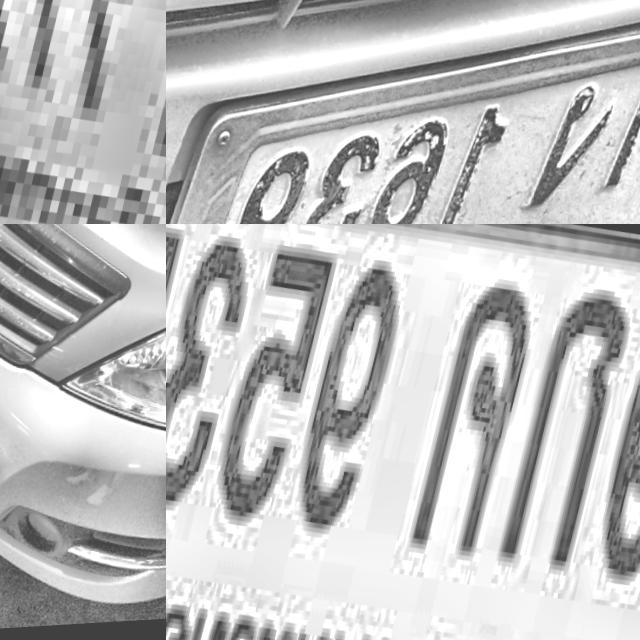license-plate: (166, 224, 640, 640), (166, 0, 640, 224), (0, 0, 166, 224)
